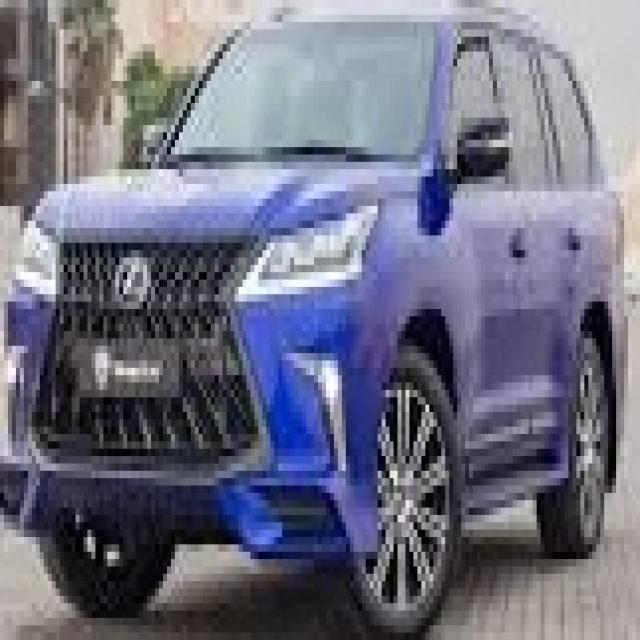blue: (18, 0, 620, 593)
